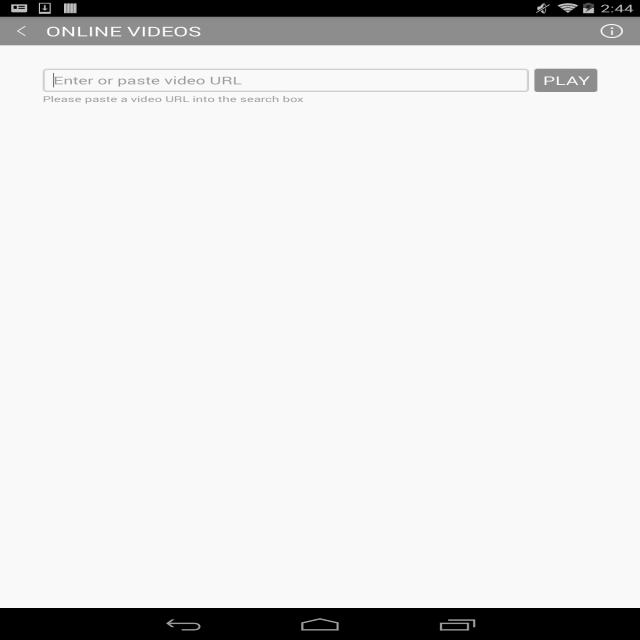Button: (538, 66, 602, 95)
EditText: (36, 65, 532, 96)
ImageButton: (594, 20, 630, 41), (6, 21, 37, 39)
TextView: (49, 22, 198, 42)
